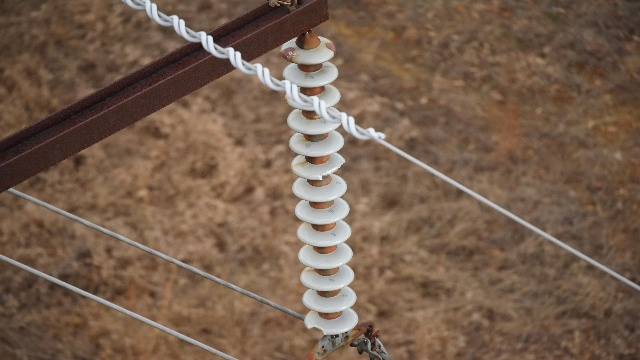broken_local: (313, 156, 347, 183), (307, 323, 333, 338)
insulator_unspecified: (281, 32, 358, 335)
pollution_flashover_local: (281, 44, 298, 61), (324, 41, 337, 55)
